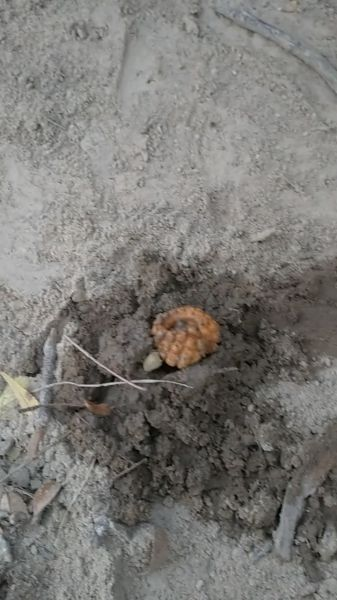eggs: (146, 298, 220, 375)
